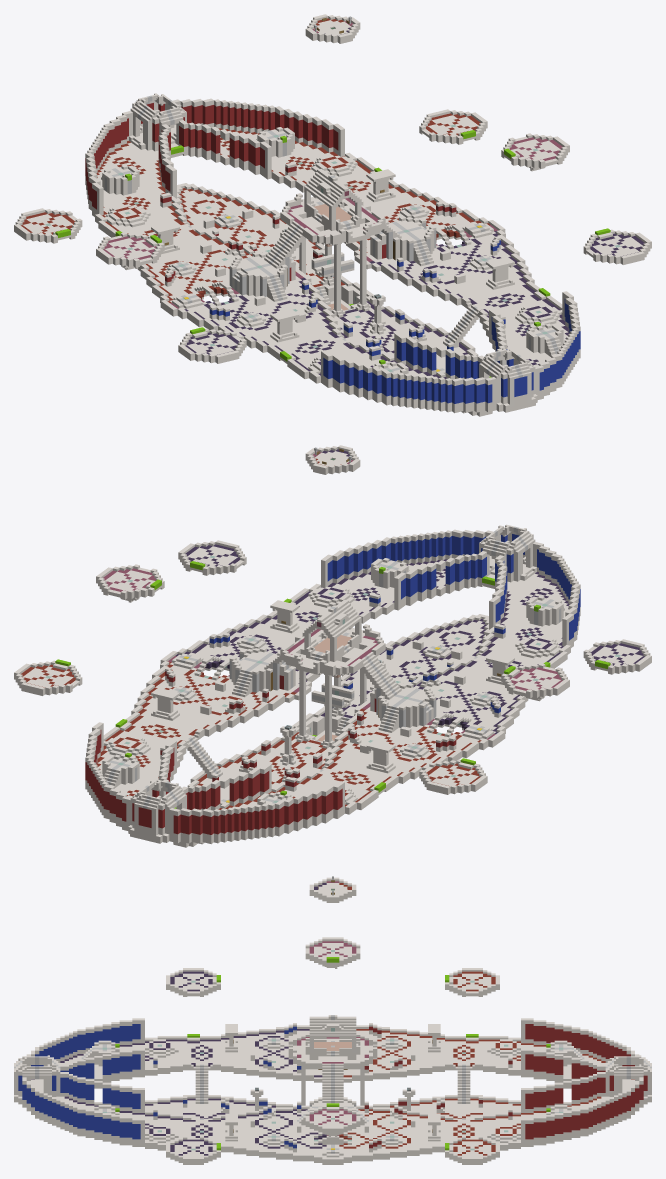
The model's file is minecraft.obj.
3 renders of one model, top to bottom at view 1: azimuth 30°, elevation 25°; view 2: azimuth 150°, elevation 25°; view 3: azimuth 270°, elevation 25°, orthographic. The views are drawn at different scales.
Bounding box in the file's own units: 107 × 68 × 151.
